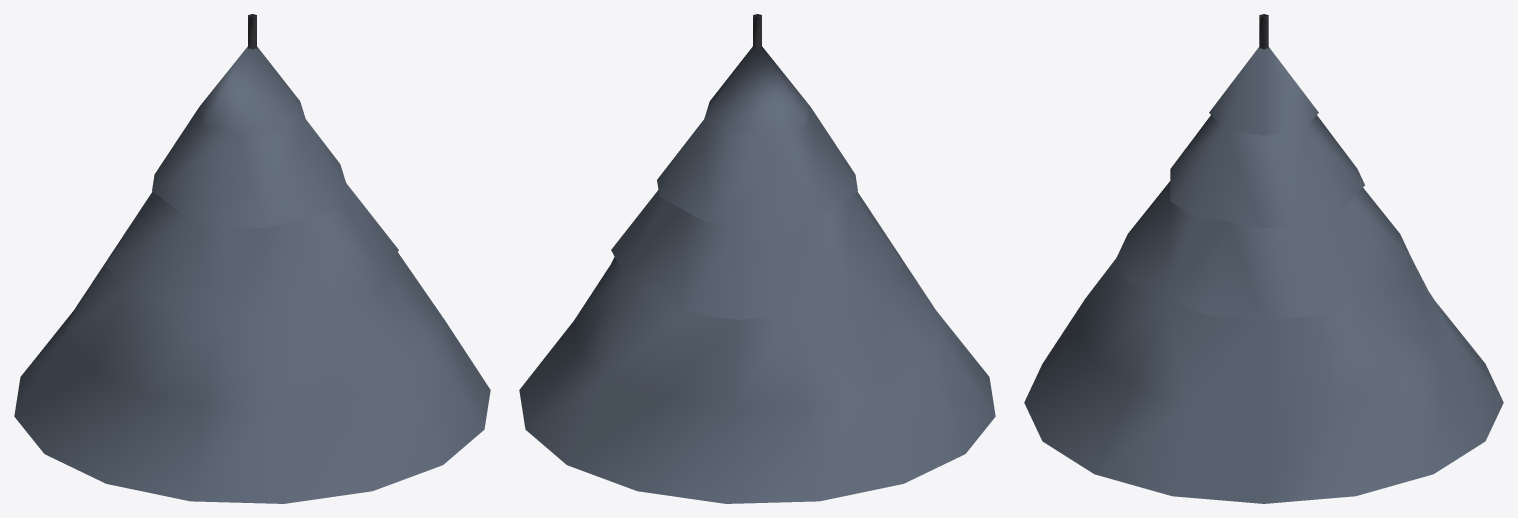
Rendered from stone_tower_roof_lod1.glb.
3 renders of one model, left to right at view 1: azimuth 30°, elevation 25°; view 2: azimuth 150°, elevation 25°; view 3: azimuth 270°, elevation 25°, orthographic.
Bounding box in the file's own units: 5.4 × 4.8 × 5.4.
